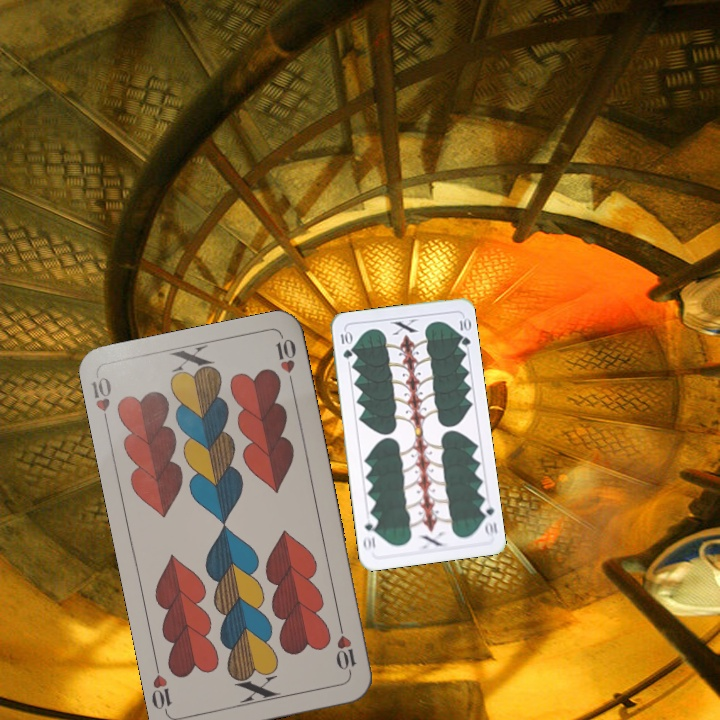G10: (477, 498, 500, 539), (336, 327, 355, 362)
H10: (332, 618, 359, 677), (88, 372, 114, 430)
